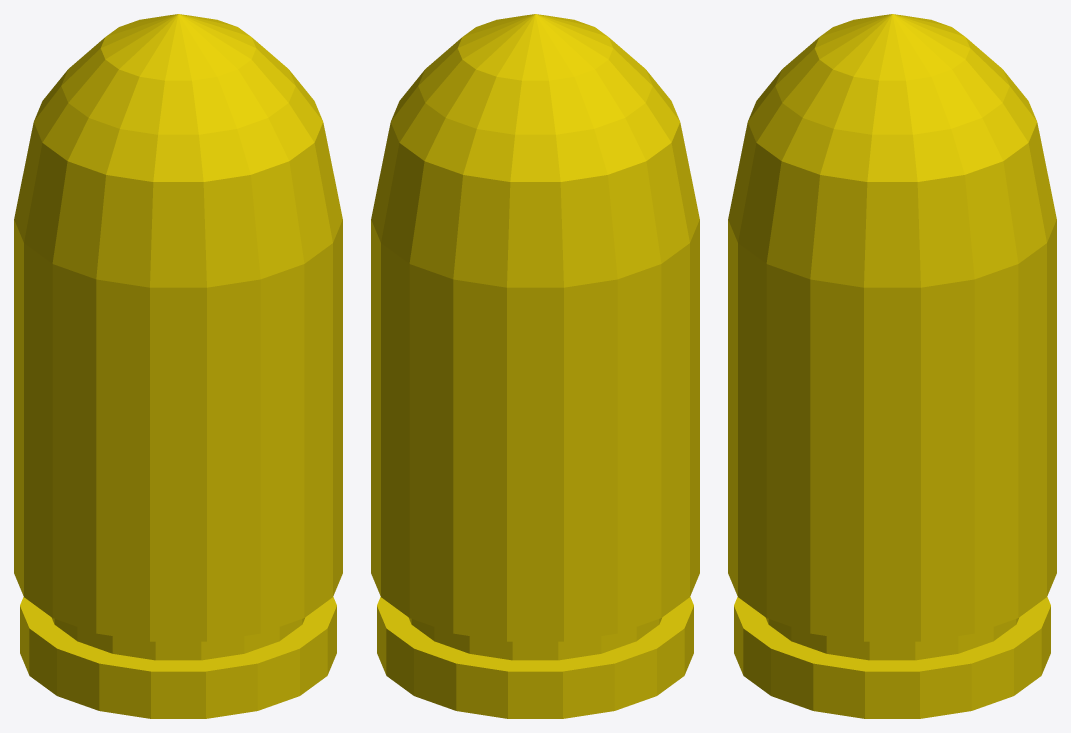
The model's file is bullet.fbx.
The picture shows the model from 3 angles, left to right: view 1: azimuth 30°, elevation 25°; view 2: azimuth 150°, elevation 25°; view 3: azimuth 270°, elevation 25°; orthographic projection.
Visible parts, largest first — view 1: Cylinder; view 2: Cylinder; view 3: Cylinder.
Boxes of the visible parts, x1=… form: Cylinder: x1=14, y1=14, x2=342, y2=718; Cylinder: x1=371, y1=14, x2=699, y2=718; Cylinder: x1=728, y1=14, x2=1056, y2=718.
Size of the model in its own units: 197 by 429 by 200.
